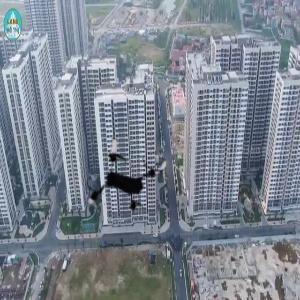drone: (80, 129, 173, 222)
